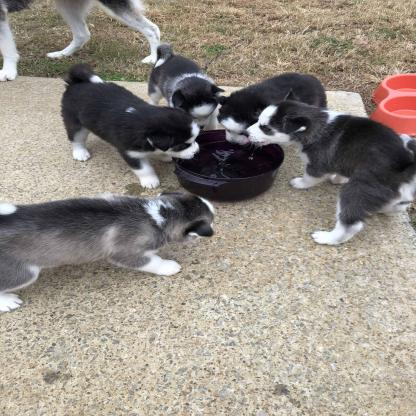dog: (241, 90, 416, 249), (0, 190, 220, 314), (59, 63, 200, 187), (0, 0, 169, 79), (208, 73, 326, 140), (142, 44, 223, 121)
